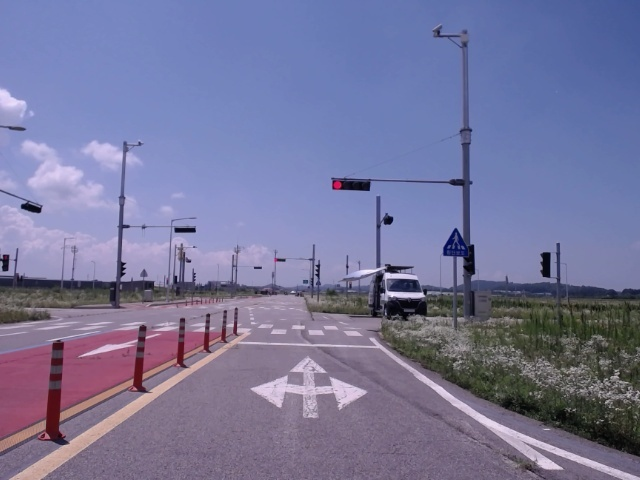red_4: (332, 179, 371, 192)
